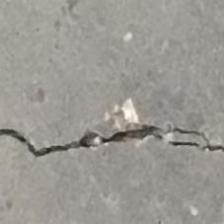Crack: (0, 115, 224, 175)
